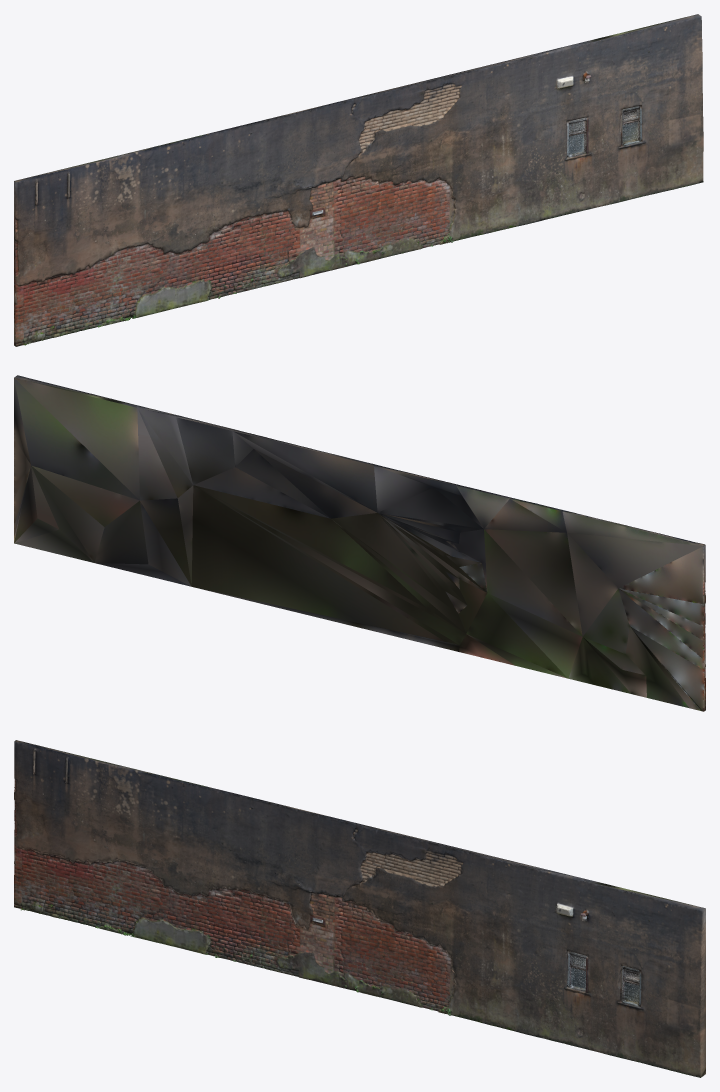
The model's file is industrial_factory_broken_brick_concrete_wall.glb.
3 renders of one model, top to bottom at view 1: azimuth 30°, elevation 25°; view 2: azimuth 150°, elevation 25°; view 3: azimuth 330°, elevation 25°, orthographic.
Visible parts, largest first — view 1: wall7; view 2: wall7; view 3: wall7.
Part boxes in pixels (x1=…): wall7: x1=14, y1=14, x2=703, y2=346; wall7: x1=14, y1=375, x2=705, y2=711; wall7: x1=14, y1=740, x2=705, y2=1077.
Bounding box in the file's own units: 15.62 × 3.59 × 0.3049.
Materials: 1 (1 with a texture image).
